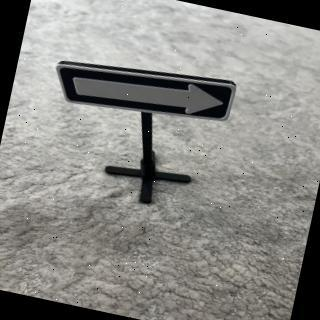sign_oneway_right: (48, 44, 252, 141)
